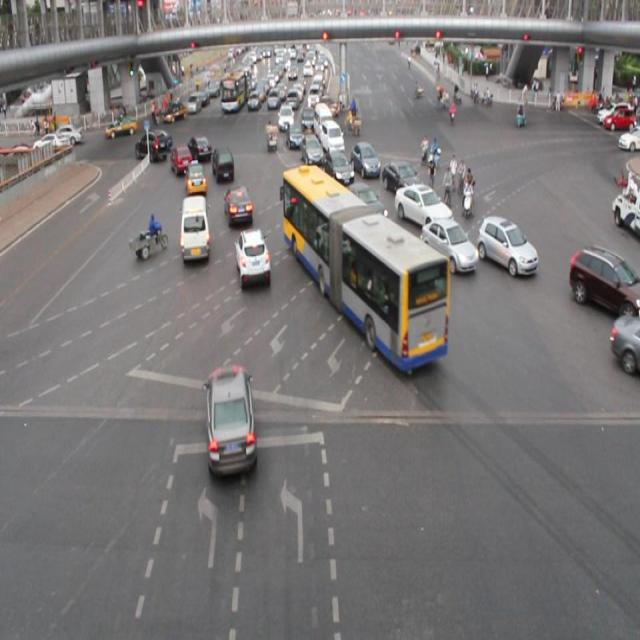car: (205, 364, 255, 476), (569, 244, 640, 318), (478, 216, 537, 275), (420, 219, 476, 273), (394, 184, 452, 231), (233, 228, 270, 285), (342, 183, 388, 225), (610, 309, 640, 370), (382, 160, 424, 200), (224, 184, 253, 228), (349, 140, 380, 178), (135, 131, 169, 162), (326, 148, 354, 184), (212, 144, 234, 185), (185, 160, 207, 194), (300, 133, 322, 166), (171, 144, 192, 176), (189, 134, 211, 162)
truck: (180, 196, 210, 263)
van: (282, 165, 448, 368)
